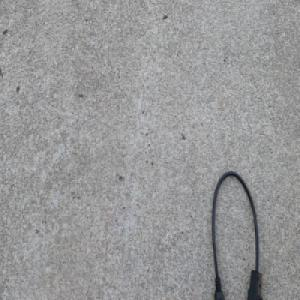Wire: (210, 168, 265, 300)
